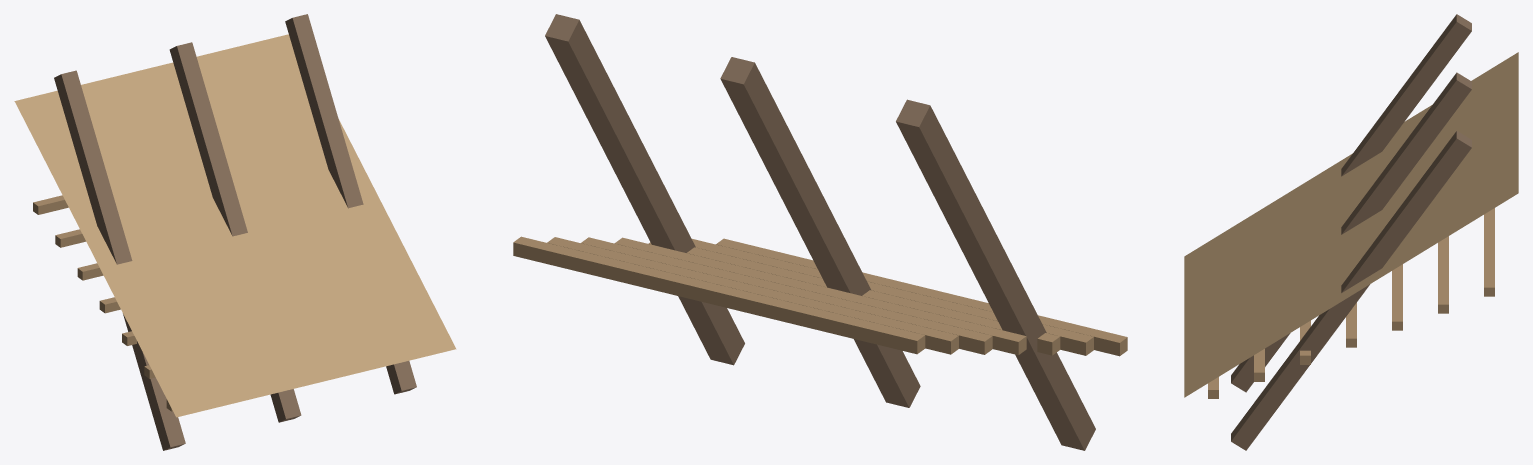
The model's file is ramp.glb.
The picture shows the model from 3 angles, left to right: view 1: azimuth 30°, elevation 25°; view 2: azimuth 150°, elevation 25°; view 3: azimuth 270°, elevation 25°; orthographic projection. The views are drawn at different scales.
Parts seen in each view (by area): view 1: ramp_0, ramp_1, ramp_3, ramp_2, ramp_4; view 2: ramp_1, ramp_3, ramp_2, ramp_4, ramp_7, ramp_5, ramp_6, ramp_10, ramp_9, ramp_8; view 3: ramp_0, ramp_3, ramp_2, ramp_1, ramp_4, ramp_5, ramp_6, ramp_7.
Part boxes in pixels (bbox=[...]): ramp_0: bbox=[14, 34, 456, 417]; ramp_1: bbox=[54, 70, 185, 450]; ramp_3: bbox=[285, 14, 416, 394]; ramp_2: bbox=[169, 42, 301, 422]; ramp_4: bbox=[33, 195, 68, 214]; ramp_1: bbox=[896, 99, 1095, 450]; ramp_3: bbox=[545, 14, 744, 365]; ramp_2: bbox=[720, 57, 920, 407]; ramp_4: bbox=[513, 236, 925, 354]; ramp_7: bbox=[614, 237, 1026, 355]; ramp_5: bbox=[547, 237, 958, 354]; ramp_6: bbox=[581, 237, 992, 354]; ramp_10: bbox=[716, 238, 1127, 356]; ramp_9: bbox=[692, 239, 1093, 355]; ramp_8: bbox=[648, 242, 1060, 355]; ramp_0: bbox=[1184, 52, 1518, 397]; ramp_3: bbox=[1231, 131, 1471, 450]; ramp_2: bbox=[1231, 72, 1471, 392]; ramp_1: bbox=[1341, 14, 1471, 176]; ramp_4: bbox=[1484, 208, 1494, 296]; ramp_5: bbox=[1438, 236, 1448, 313]; ramp_6: bbox=[1392, 264, 1402, 330]; ramp_7: bbox=[1346, 302, 1356, 347].
Bounding box in the file's own units: 4 × 4.12 × 4.
